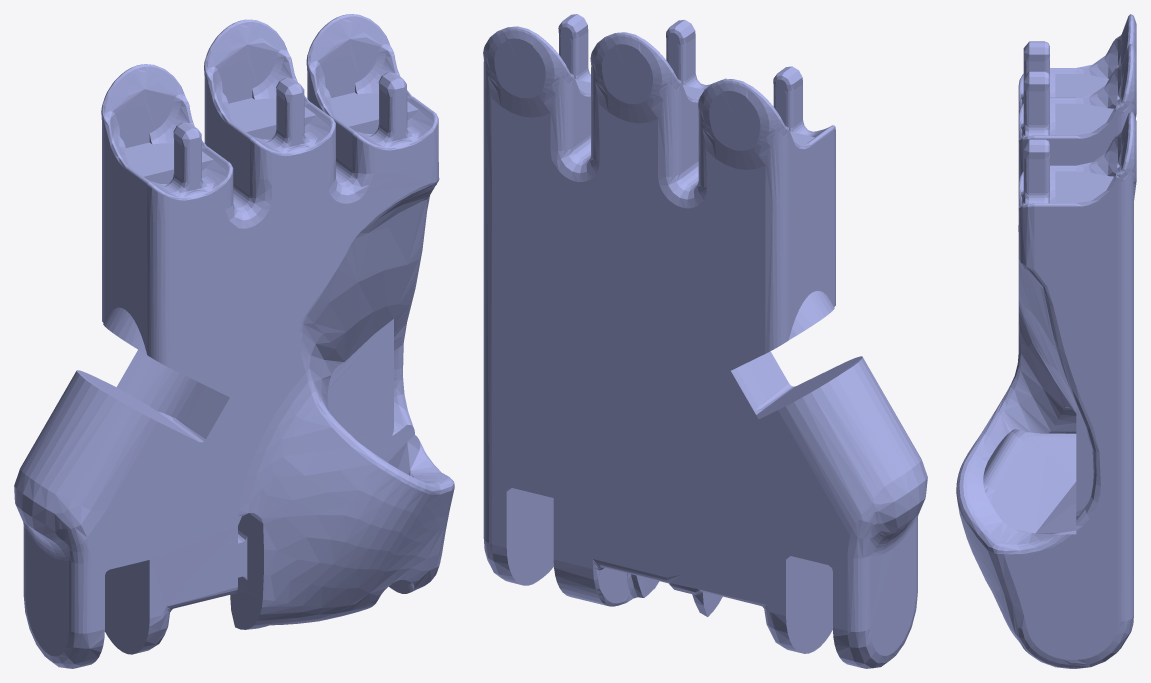
File: palm.dae
The picture shows the model from 3 angles, left to right: view 1: azimuth 30°, elevation 25°; view 2: azimuth 150°, elevation 25°; view 3: azimuth 270°, elevation 25°; orthographic projection. The views are drawn at different scales.
Visible parts, largest first — view 1: palm; view 2: palm; view 3: palm.
Part boxes in pixels (x1,y1,x2,y2): palm: (14,14,454,668); palm: (483,14,927,668); palm: (956,14,1136,668).
Size of the model in its own units: 84.21 by 34.35 by 117.
